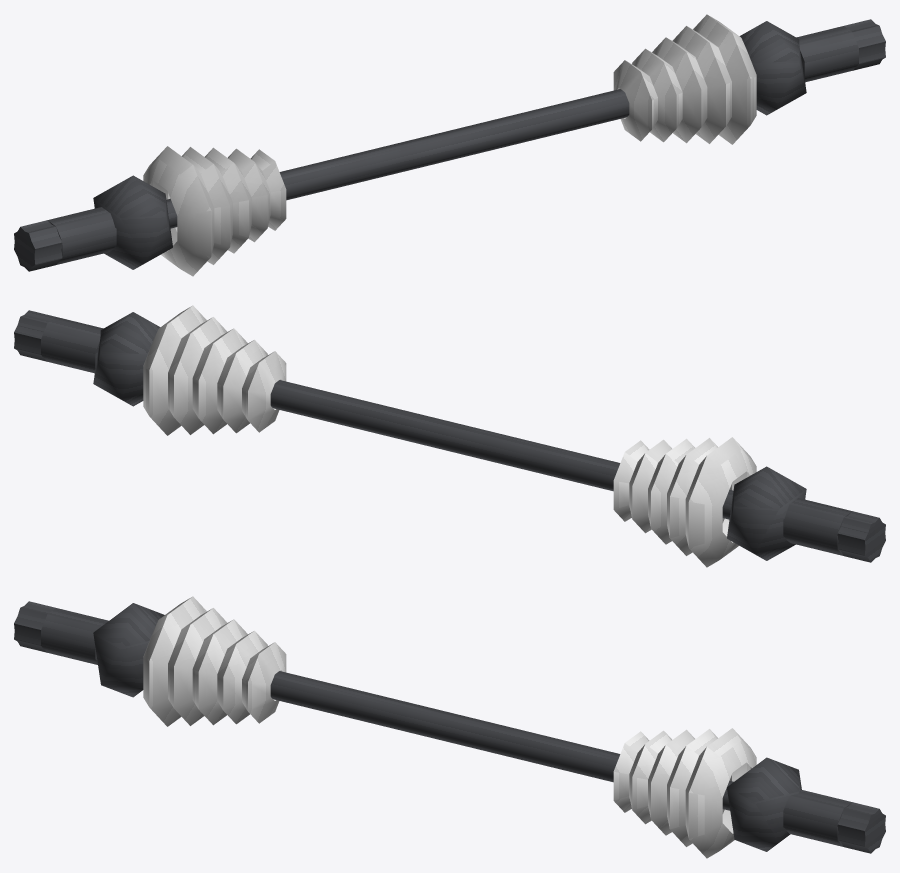
File: semieixos_fabrica.glb
3 views of the same model, one above another, from view 1: azimuth 30°, elevation 25°; view 2: azimuth 150°, elevation 25°; view 3: azimuth 330°, elevation 25° (orthographic).
Parts seen in each view (by area): view 1: semieixos_fabrica; view 2: semieixos_fabrica; view 3: semieixos_fabrica.
Boxes of the visible parts, box(x1,y1,x2,y2) form: semieixos_fabrica: box(14, 14, 885, 276); semieixos_fabrica: box(14, 305, 885, 567); semieixos_fabrica: box(14, 596, 885, 858).
Size of the model in its own units: 0.94 by 0.1183 by 0.1183.
2 materials, 2 textured.
